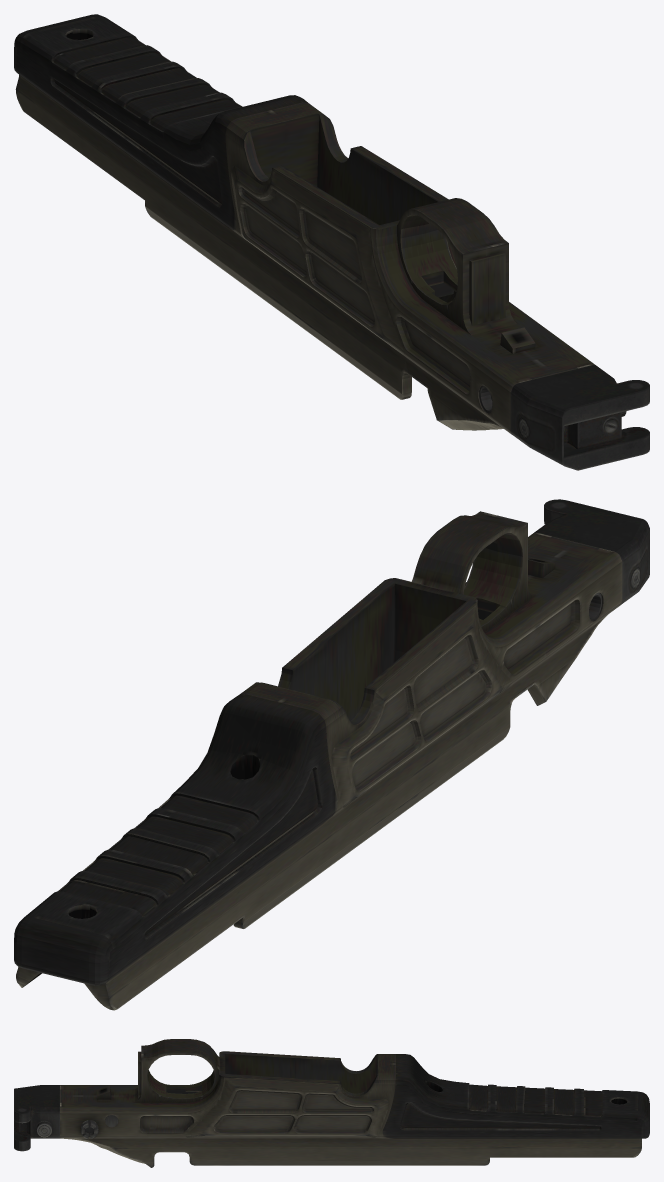
3 views of the same model, one above another, from view 1: azimuth 30°, elevation 25°; view 2: azimuth 150°, elevation 25°; view 3: azimuth 270°, elevation 25° (orthographic). The views are drawn at different scales.
Parts seen in each view (by area): view 1: TW_623b2e9d11c3296b440d1638_PZ_Import; view 2: TW_623b2e9d11c3296b440d1638_PZ_Import; view 3: TW_623b2e9d11c3296b440d1638_PZ_Import.
Part boxes in pixels (x1=…): TW_623b2e9d11c3296b440d1638_PZ_Import: x1=14, y1=14, x2=649, y2=470; TW_623b2e9d11c3296b440d1638_PZ_Import: x1=14, y1=499, x2=649, y2=1010; TW_623b2e9d11c3296b440d1638_PZ_Import: x1=14, y1=1039, x2=649, y2=1167.
Bounding box in the file's own units: 0.0295 × 0.249 × 0.0476.
1 material, 1 textured.
